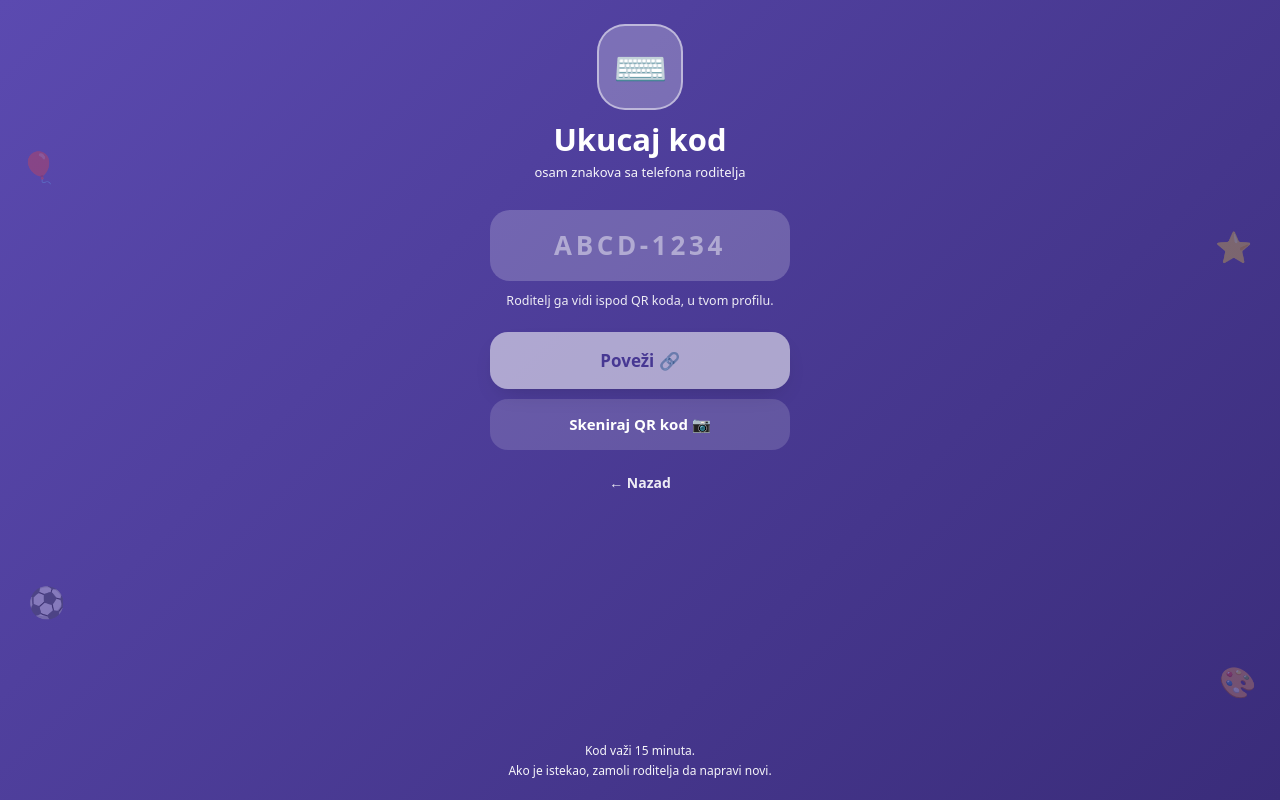
Test: KidCodeForm › takes the code out of a whole link, so a child can just paste one
The image size is (1280, 800).
In the field named "Kod za povezivanje": x=640, y=246 [490,210,790,281], type "https://example.com/kid/link#A7K29QXM"
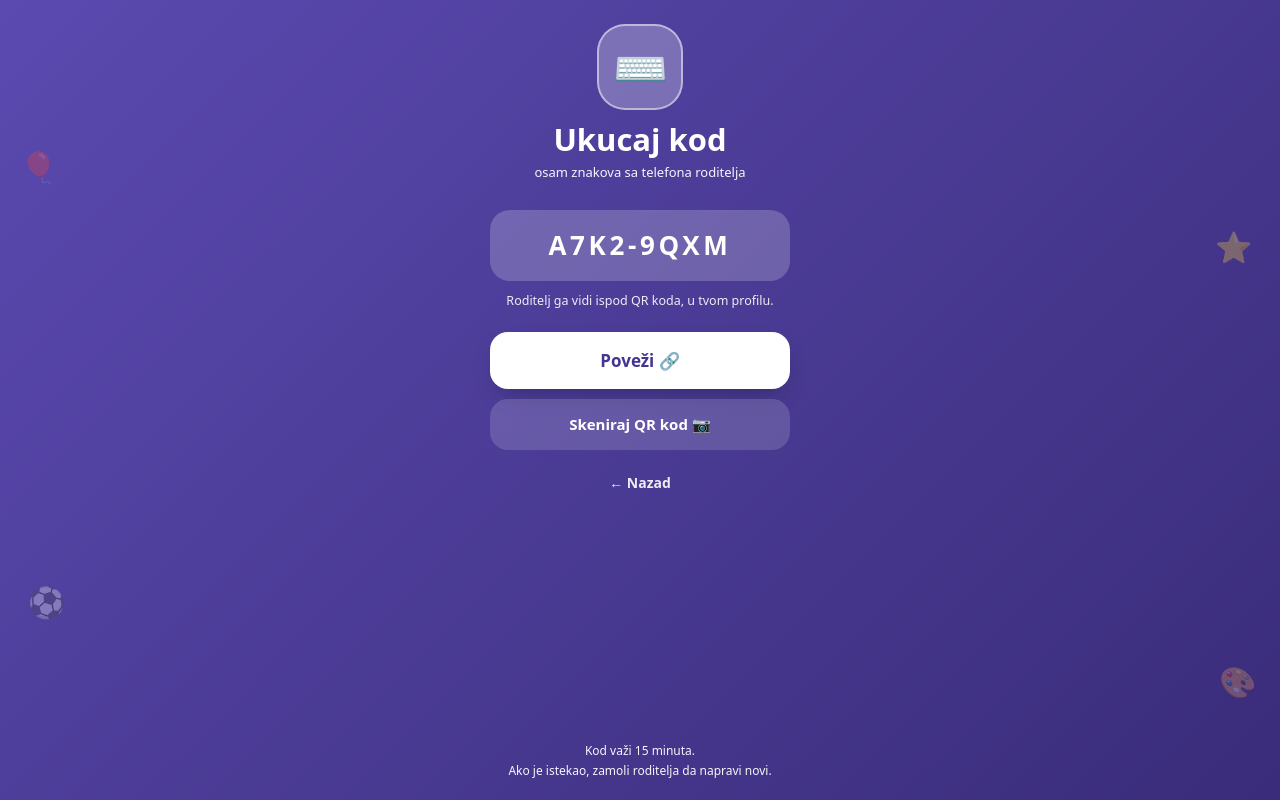
Result: the field named "Kod za povezivanje" holds "A7K2-9QXM" at [490,210,790,281]
